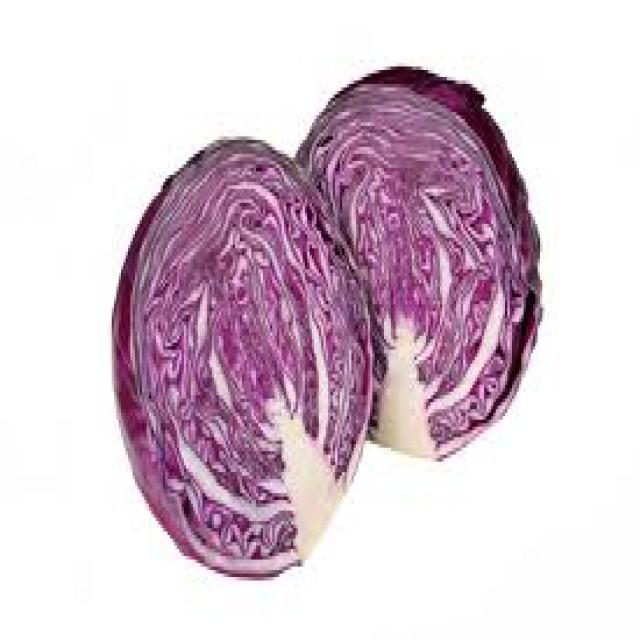cabbage: (102, 56, 564, 581)
